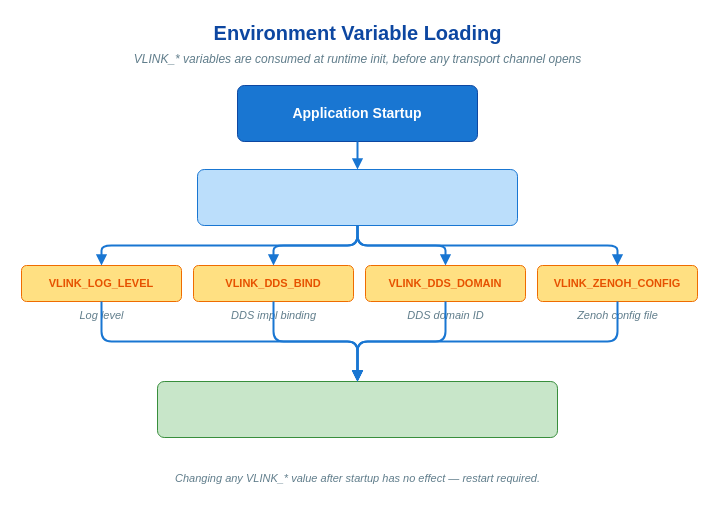
This 715x506 diagram has some shape labels left out. Here are the shapes that lost their labels. From the top down, the centre of each, then its label:
At [357,197]: "VLink Runtime Initialization".
At [357,409]: "Node Created · Transport Channel Ready".
